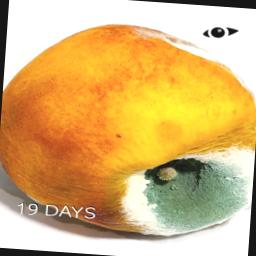Peach Rotten: (0, 11, 256, 233)
